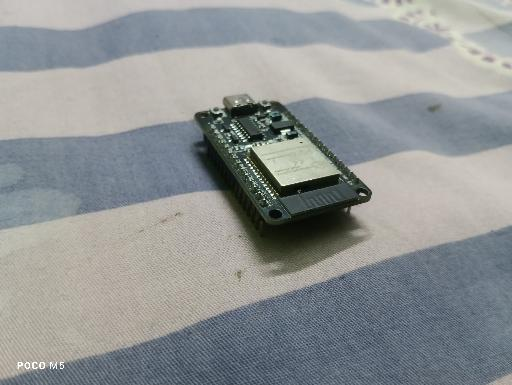Esp32: (195, 93, 371, 237)
